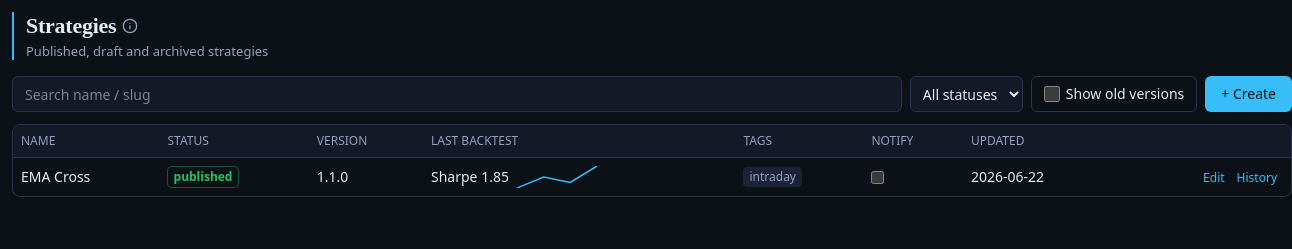
StrategiesListPage › "Show old versions" expands older versions with their last backtest and a disabled Edit
Expected: the text "1.0.0" is not shown
Step 1. Click the checkbox labelled "Show old versions" → (1052,94), box [1044,86,1060,102]
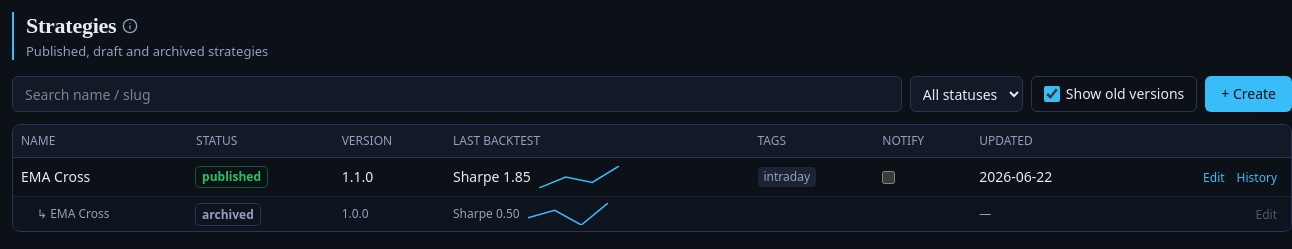
Expected: the text "1.0.0" is shown, [334,196,445,231]
Expected: the text "Sharpe 0.50" is shown, [453,206,520,222]
Expected: the text "1.1.0" is shown once, [334,158,445,196]
